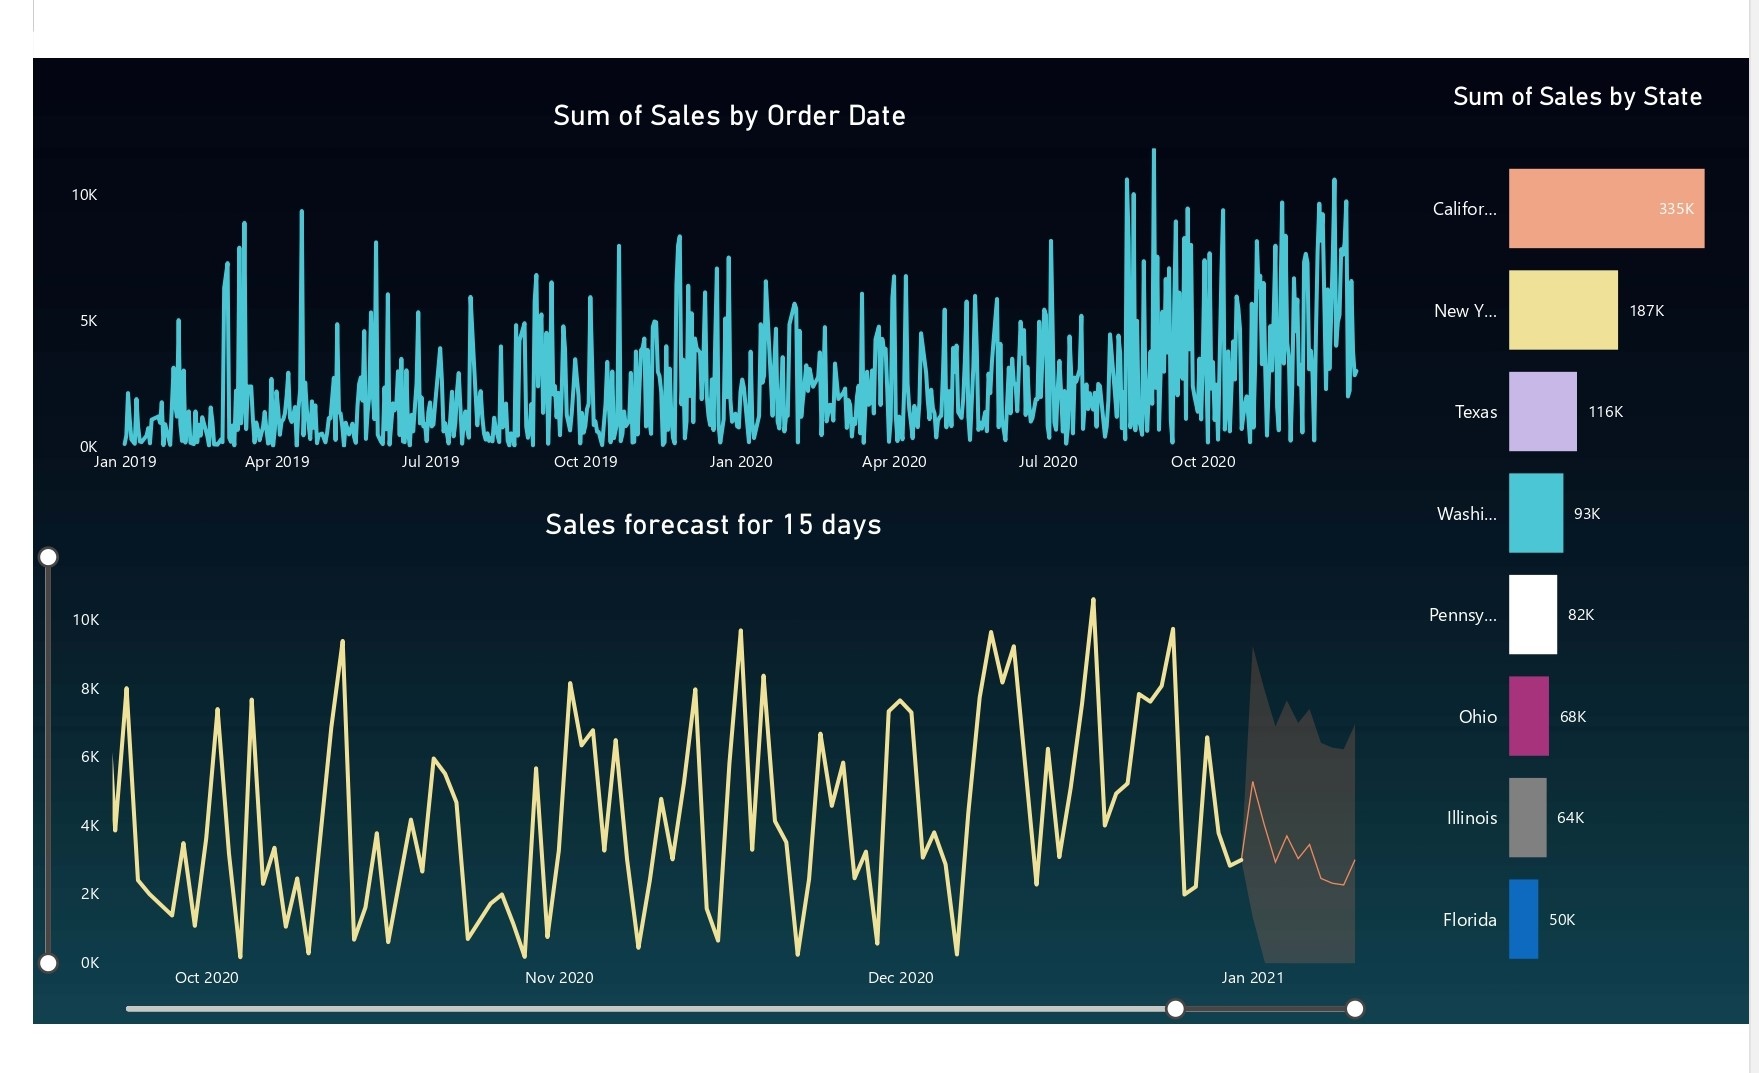

The page's visual inventory and layout, read from the dashboard file:
{"tool":"powerbi","page":{"name":"Page 2","canvas":[1280,720],"ordinal":1},"visuals":[{"type":"lineChart","fields":{"Y":["Sum(SuperStore_Sales_Dataset.Sales)"],"Category":["SuperStore_Sales_Dataset.Order Date"]},"box":[23.1,30.3,992.6,288.6],"z":0},{"type":"lineChart","title":"Sales forecast for 15  days","fields":{"Y":["Sum(SuperStore_Sales_Dataset.Sales)"],"Category":["SuperStore_Sales_Dataset.Order Date"]},"box":[0,335.3,1015.5,384.7],"z":1000},{"type":"barChart","fields":{"Y":["Sum(SuperStore_Sales_Dataset.Sales)"],"Category":["SuperStore_Sales_Dataset.State"]},"box":[1024.4,17.3,255.4,691.1],"z":2000}]}

Visuals, with their boxes on the page's 1280x720 design canvas (x1, y1, x2, y2). These are canvas units, not pixel positions in the 1759x1073 screenshot, which may show the page scaled, cropped or inside an application window:
lineChart - Sum(SuperStore_Sales_Dataset.Sales) x SuperStore_Sales_Dataset.Order Date: bbox(23, 30, 1016, 319)
"Sales forecast for 15  days" lineChart: bbox(0, 335, 1016, 720)
barChart - Sum(SuperStore_Sales_Dataset.Sales) x SuperStore_Sales_Dataset.State: bbox(1024, 17, 1280, 708)
